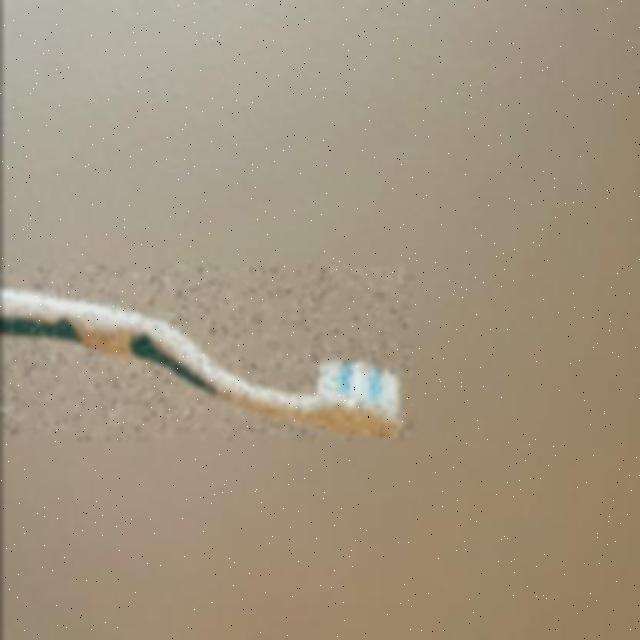toothbrush: (0, 266, 410, 439)
